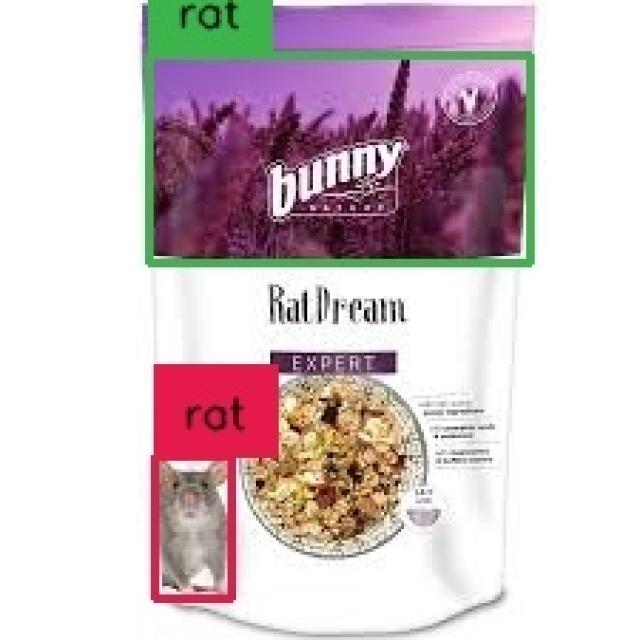rat: (148, 56, 529, 263), (156, 456, 234, 598)
